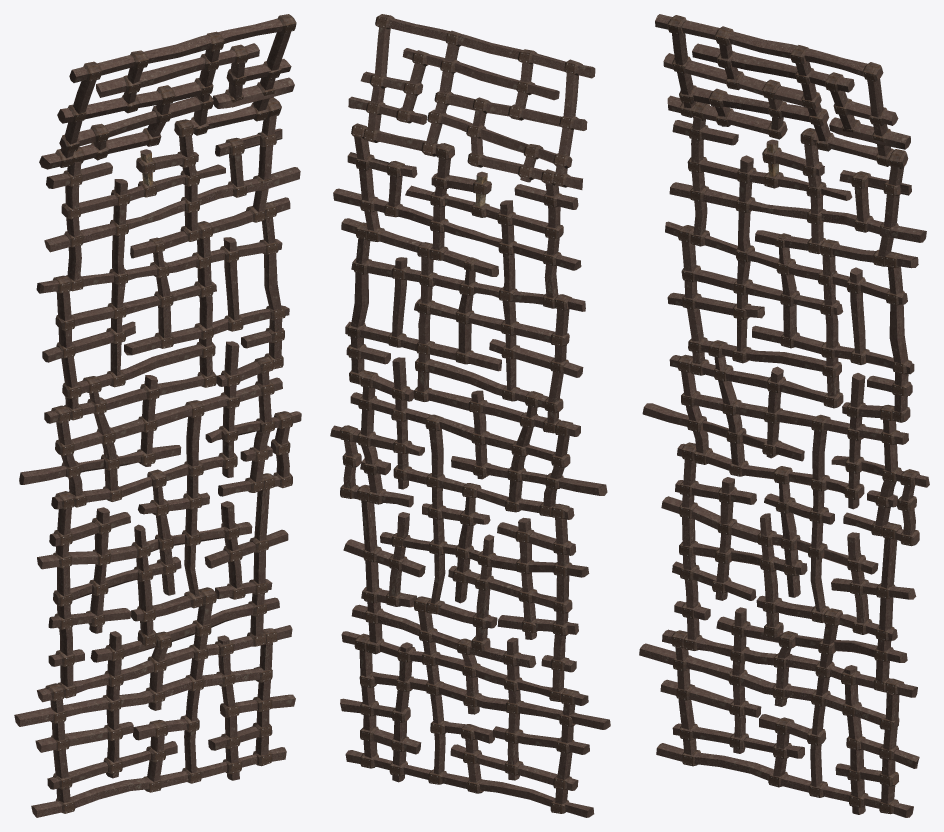
File: badack.fbx
The picture shows the model from 3 angles, left to right: view 1: azimuth 30°, elevation 25°; view 2: azimuth 150°, elevation 25°; view 3: azimuth 330°, elevation 25°; orthographic projection. The views are drawn at different scales.
Parts seen in each view (by area): view 1: M4_Nigraturis_JailBars04_SM_SCY; view 2: M4_Nigraturis_JailBars04_SM_SCY; view 3: M4_Nigraturis_JailBars04_SM_SCY.
Part boxes in pixels (bbox=[...]): M4_Nigraturis_JailBars04_SM_SCY: bbox=[14, 14, 301, 817]; M4_Nigraturis_JailBars04_SM_SCY: bbox=[330, 14, 610, 817]; M4_Nigraturis_JailBars04_SM_SCY: bbox=[639, 14, 929, 817].
Bounding box in the file's own units: 1.05 × 2.71 × 0.1917.
1 material, 1 textured.
